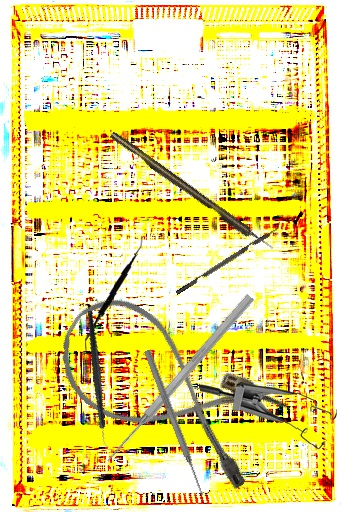Cannula: (40, 281, 294, 497)
Chopper: (56, 310, 145, 452), (172, 220, 284, 295)
Hook Surgical: (108, 129, 276, 255)
Pusher: (102, 292, 256, 466), (142, 348, 207, 498)
Spatula Surgical: (79, 235, 149, 352)
Speculum: (199, 379, 338, 453)
